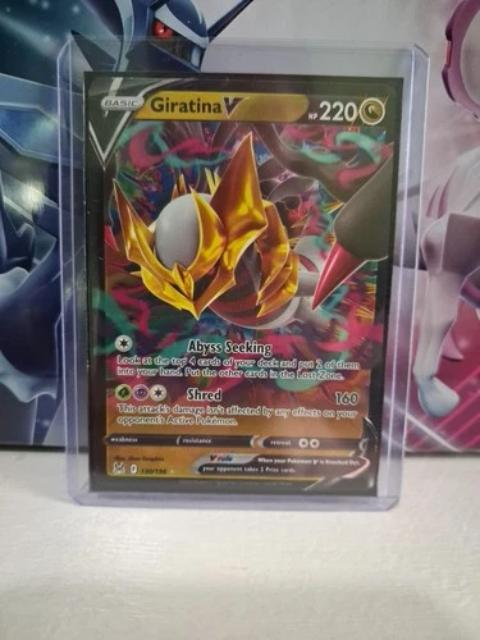Card: (82, 72, 401, 498)
Name: (143, 90, 251, 118)
